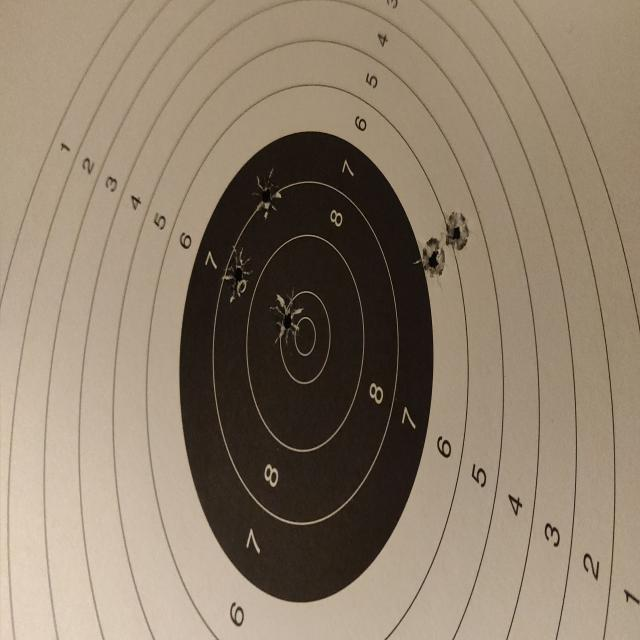2: (275, 288, 302, 344)
7: (446, 205, 470, 255)
8: (420, 236, 448, 284)
9: (253, 170, 280, 216), (227, 252, 249, 299)
Black Contour: (178, 129, 434, 603)
Target: (1, 0, 638, 639)
